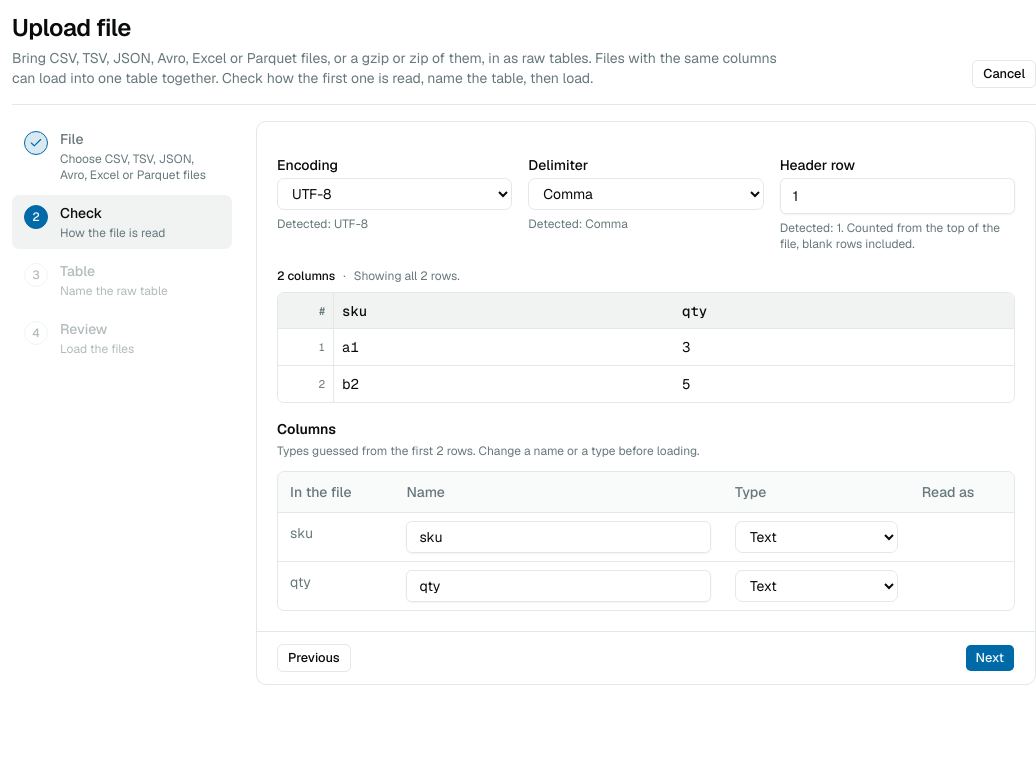
Test: UploadFilePage, Table step › refuses a name that breaks the rule with the rule's sentence
Expected: the dropdown labelled "Encoding" is shown, [277,178,512,210]
Click the button "Next": [990, 658] box [964,644,1015,672]
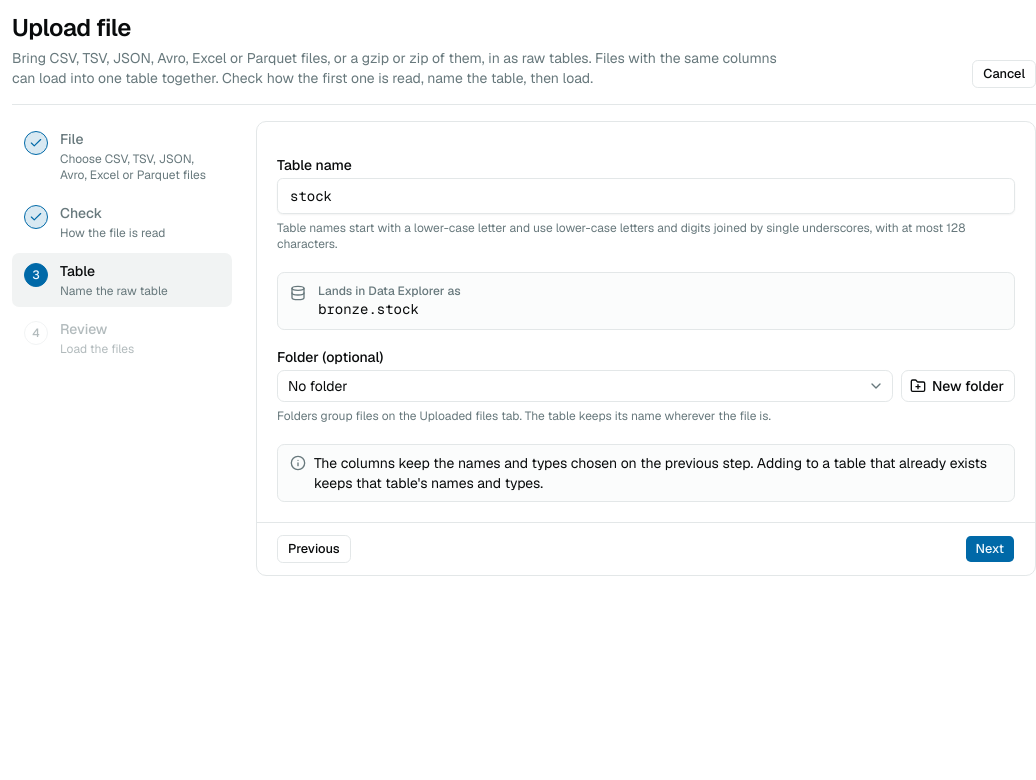
Expected: the field labelled "Table name" is shown
Replace the text in the field labelled "Table name" with "Orders 2025": [646, 196] box [277,178,1015,214]
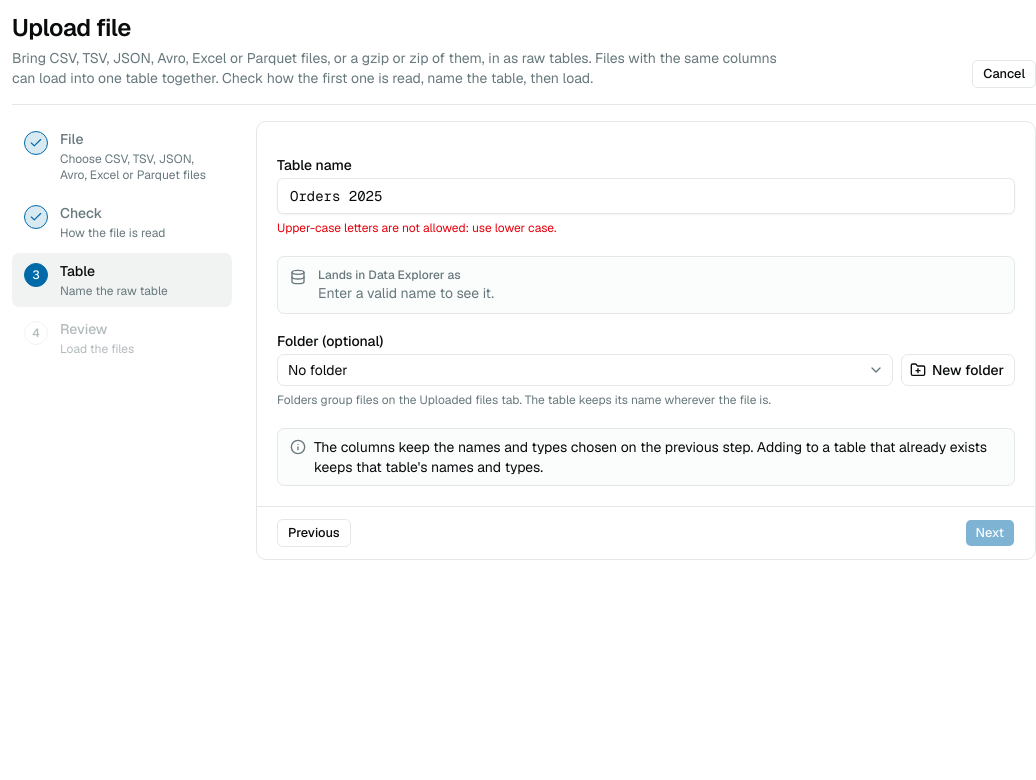
Expected: the text "Table names start with a lower-case letter and use lower-case letters and digits joined by single underscores, with at m" is gone
Expected: the button "Next" is disabled, [964,519,1015,547]
Replace the text in the field labelled "Table name" with "orders 2025": [646, 196] box [277,178,1015,214]
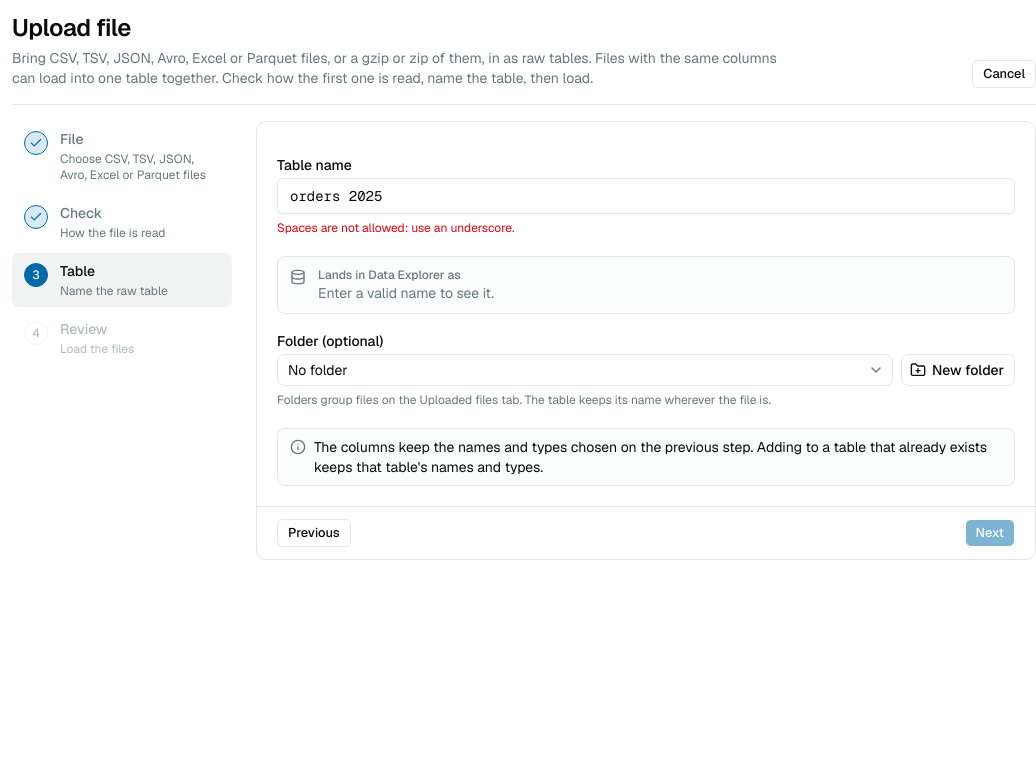
Expected: the text "Spaces are not allowed: use an underscore." is shown, [277,220,514,236]
